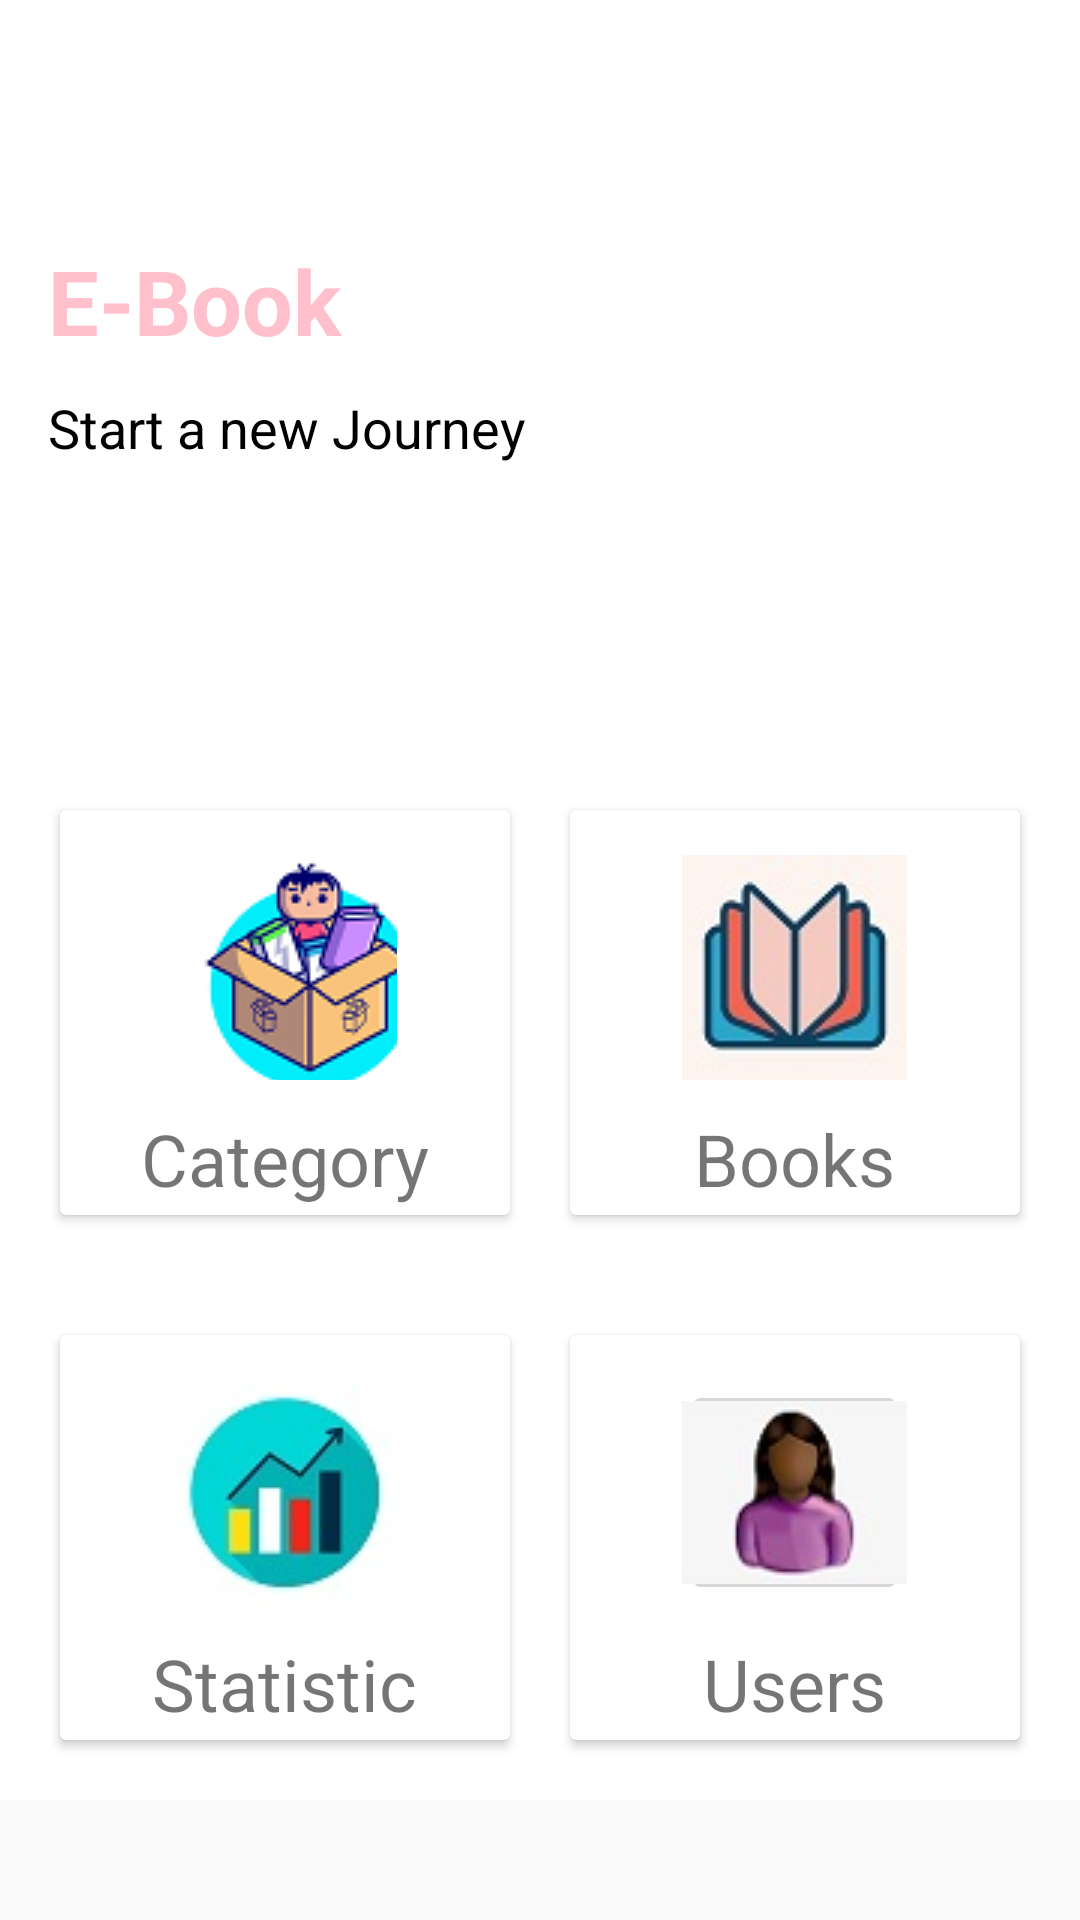

Named icons in this screenshot (1080x1920) and their bounding boxes, (x1, y1, x2, y2):
bookicon: (701, 855, 888, 1051)
